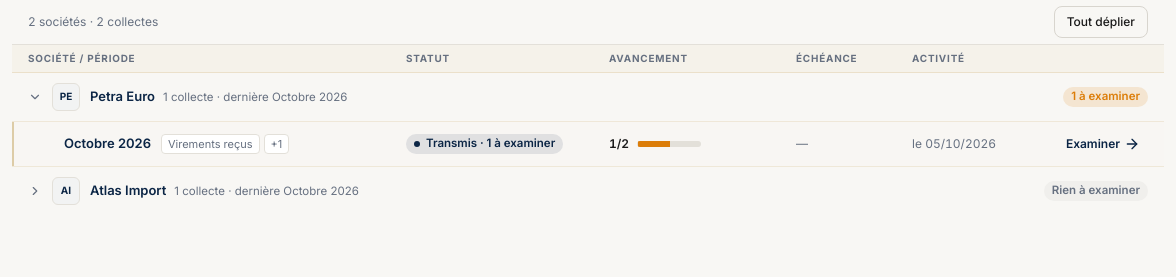
Scenario: registre des collectes du cabinet, par société › déplie une société pour montrer ses collectes avec leur période et leurs tableaux
Expected: the button with aria-label "Examiner la collecte Petra Euro — Octobre 2026" is shown, [1058,128,1148,160]
Expected: the list item "Virements reçus" is shown, [161,134,260,154]
What coordinates should you click on to do the following:
click the button that starts with "Atlas Import"
I would click on:
 (128, 190)
Its box is [12,167,1164,215].
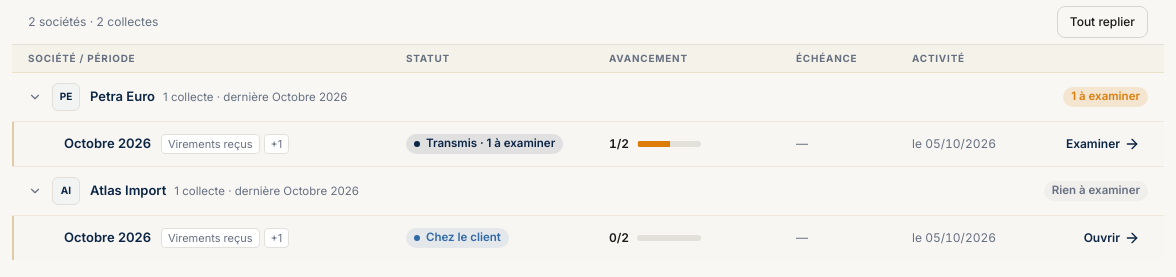
Now the button with aria-label "Ouvrir la collecte Atlas Import — Octobre 2026" is shown, box [1076,222,1148,254]
